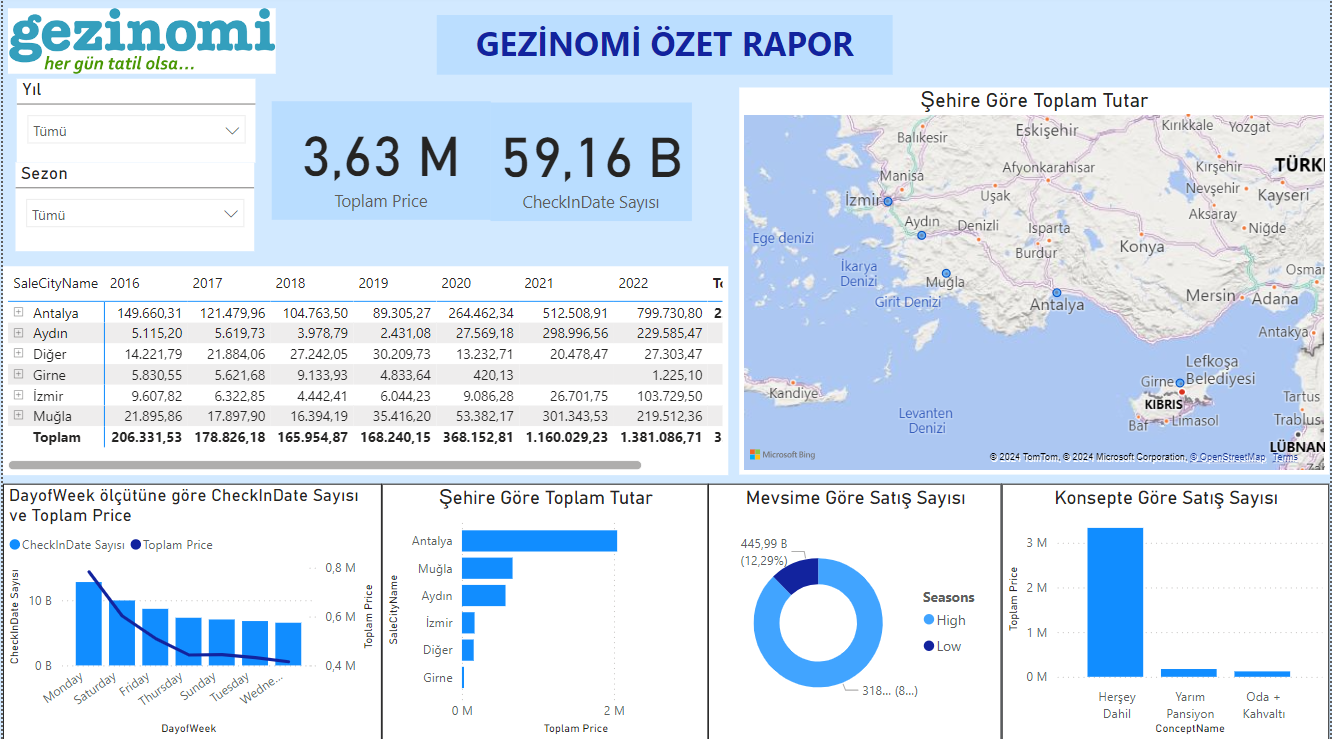

The page's visual inventory and layout, read from the dashboard file:
{"tool":"powerbi","page":{"name":"1. sayfa","canvas":[1280,720],"ordinal":0},"visuals":[{"type":"textbox","box":[418.6,19.3,440.4,57.9],"z":0},{"type":"image","box":[0,0,267.8,89.3],"z":1},{"type":"slicer","title":"Yıl","fields":{"Values":["Gezinomi.Yıl"]},"box":[13.3,80.8,230.4,80.8],"z":2},{"type":"slicer","title":"Sezon","fields":{"Values":["Gezinomi.Seasons"]},"box":[12.1,161.7,230.4,85.7],"z":3},{"type":"card","title":"Toplam Ödenen Tutar","fields":{"Values":["Sum(Gezinomi.Price)"]},"box":[259.4,102.5,211.1,114.6],"z":4},{"type":"card","fields":{"Values":["CountNonNull(Gezinomi.CheckInDate)"]},"box":[470.5,103.8,194.2,114.6],"z":5},{"type":"map","title":"Şehire Göre Toplam Tutar","fields":{"Category":["Gezinomi.SaleCityName"]},"box":[710.6,89.3,569.4,374],"z":6},{"type":"barChart","title":"Şehire Göre Toplam Tutar","fields":{"Category":["Gezinomi.SaleCityName"],"Y":["Sum(Gezinomi.Price)"]},"box":[365.6,471.7,314.9,248.5],"z":7},{"type":"donutChart","title":"Mevsime Göre Satış Sayısı","fields":{"Category":["Gezinomi.Seasons"],"Y":["Sum(Gezinomi.Price)"]},"box":[680.4,471.7,283.5,248.5],"z":8},{"type":"lineStackedColumnComboChart","title":" Konsepte Göre Satış Sayısı","fields":{"Category":["Gezinomi.ConceptName"],"Y":["Sum(Gezinomi.Price)"]},"box":[963.9,471.7,316.1,248.5],"z":9},{"type":"pivotTable","fields":{"Rows":["Gezinomi.SaleCityName","Gezinomi.Seasons"],"Columns":["Gezinomi.Yıl"],"Values":["Sum(Gezinomi.Price)"]},"box":[0,261.8,699.7,201.5],"z":10},{"type":"lineStackedColumnComboChart","fields":{"Category":["Tablo.DayofWeek"],"Y":["CountNonNull(Gezinomi.CheckInDate)"],"Y2":["Sum(Gezinomi.Price)"]},"box":[0,471.7,365.6,248.5],"z":11}]}

Visuals, with their boxes in screenshot pixels (x1, y1, x2, y2), scaled from the page's 1280x720 canvas onto the 1332x739 screenshot:
textbox: <box>436,20,894,79</box>
image: <box>0,0,279,92</box>
"Yıl" slicer: <box>14,83,254,166</box>
"Sezon" slicer: <box>13,166,252,254</box>
"Toplam Ödenen Tutar" card: <box>270,105,490,223</box>
card - CountNonNull(Gezinomi.CheckInDate): <box>490,107,692,224</box>
"Şehire Göre Toplam Tutar" map: <box>739,92,1331,476</box>
"Şehire Göre Toplam Tutar" barChart: <box>380,484,708,738</box>
"Mevsime Göre Satış Sayısı" donutChart: <box>708,484,1003,738</box>
" Konsepte Göre Satış Sayısı" lineStackedColumnComboChart: <box>1003,484,1331,738</box>
pivotTable - Gezinomi.SaleCityName x Gezinomi.Seasons: <box>0,269,728,476</box>
lineStackedColumnComboChart - Tablo.DayofWeek x CountNonNull(Gezinomi.CheckInDate): <box>0,484,380,738</box>
